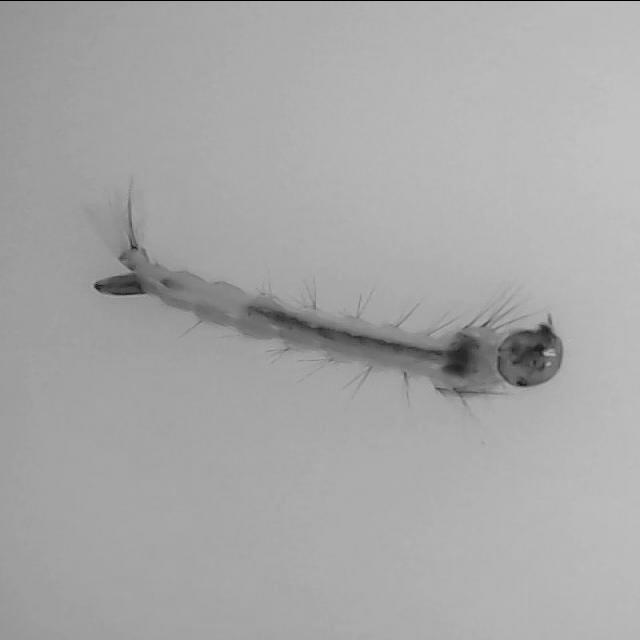larvas: (92, 202, 563, 402)
